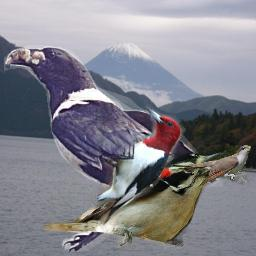Crow: (4, 45, 224, 252)
Cuckoo: (170, 145, 251, 187)
Woodpecker: (43, 146, 225, 249), (88, 103, 188, 230)
